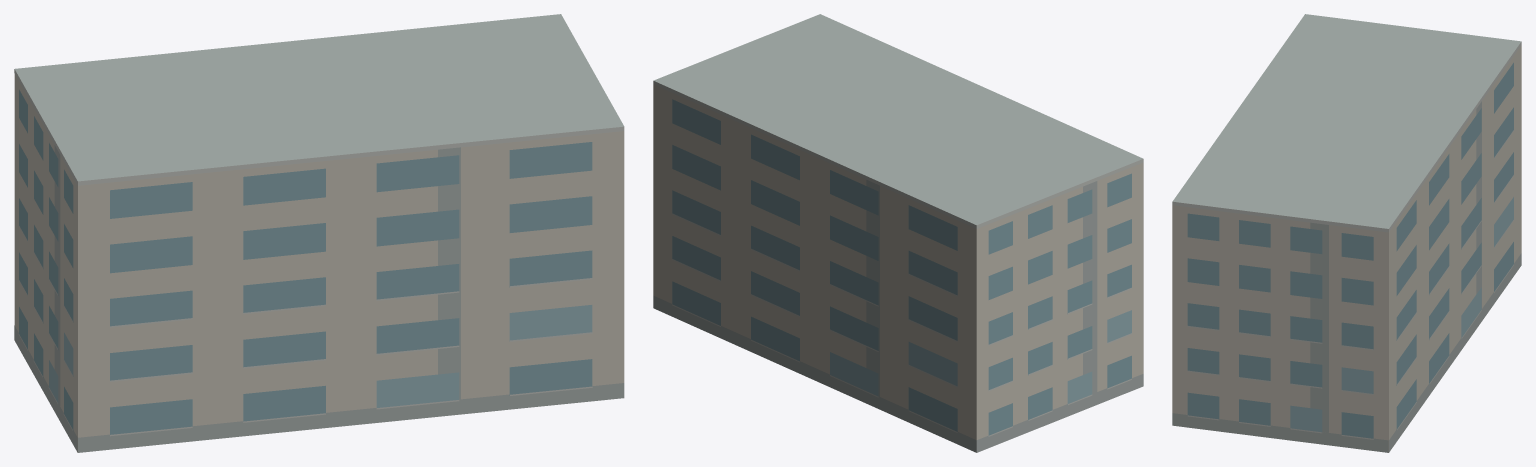
File: residential-64f572f5-e2d0-4760-8bf0-2944e726d5cf.glb
The picture shows the model from 3 angles, left to right: view 1: azimuth 30°, elevation 25°; view 2: azimuth 150°, elevation 25°; view 3: azimuth 270°, elevation 25°; orthographic projection. The views are drawn at different scales.
Visible parts, largest first — view 1: residential-64f572f5-e2d0-4760-8bf0-2944e726d5cf.tmp; view 2: residential-64f572f5-e2d0-4760-8bf0-2944e726d5cf.tmp; view 3: residential-64f572f5-e2d0-4760-8bf0-2944e726d5cf.tmp.
Boxes of the visible parts, x1=… form: residential-64f572f5-e2d0-4760-8bf0-2944e726d5cf.tmp: x1=14, y1=14, x2=624, y2=452; residential-64f572f5-e2d0-4760-8bf0-2944e726d5cf.tmp: x1=653, y1=14, x2=1143, y2=452; residential-64f572f5-e2d0-4760-8bf0-2944e726d5cf.tmp: x1=1172, y1=14, x2=1521, y2=452.
Bounding box in the file's own units: 31.41 × 15.25 × 21.56.
